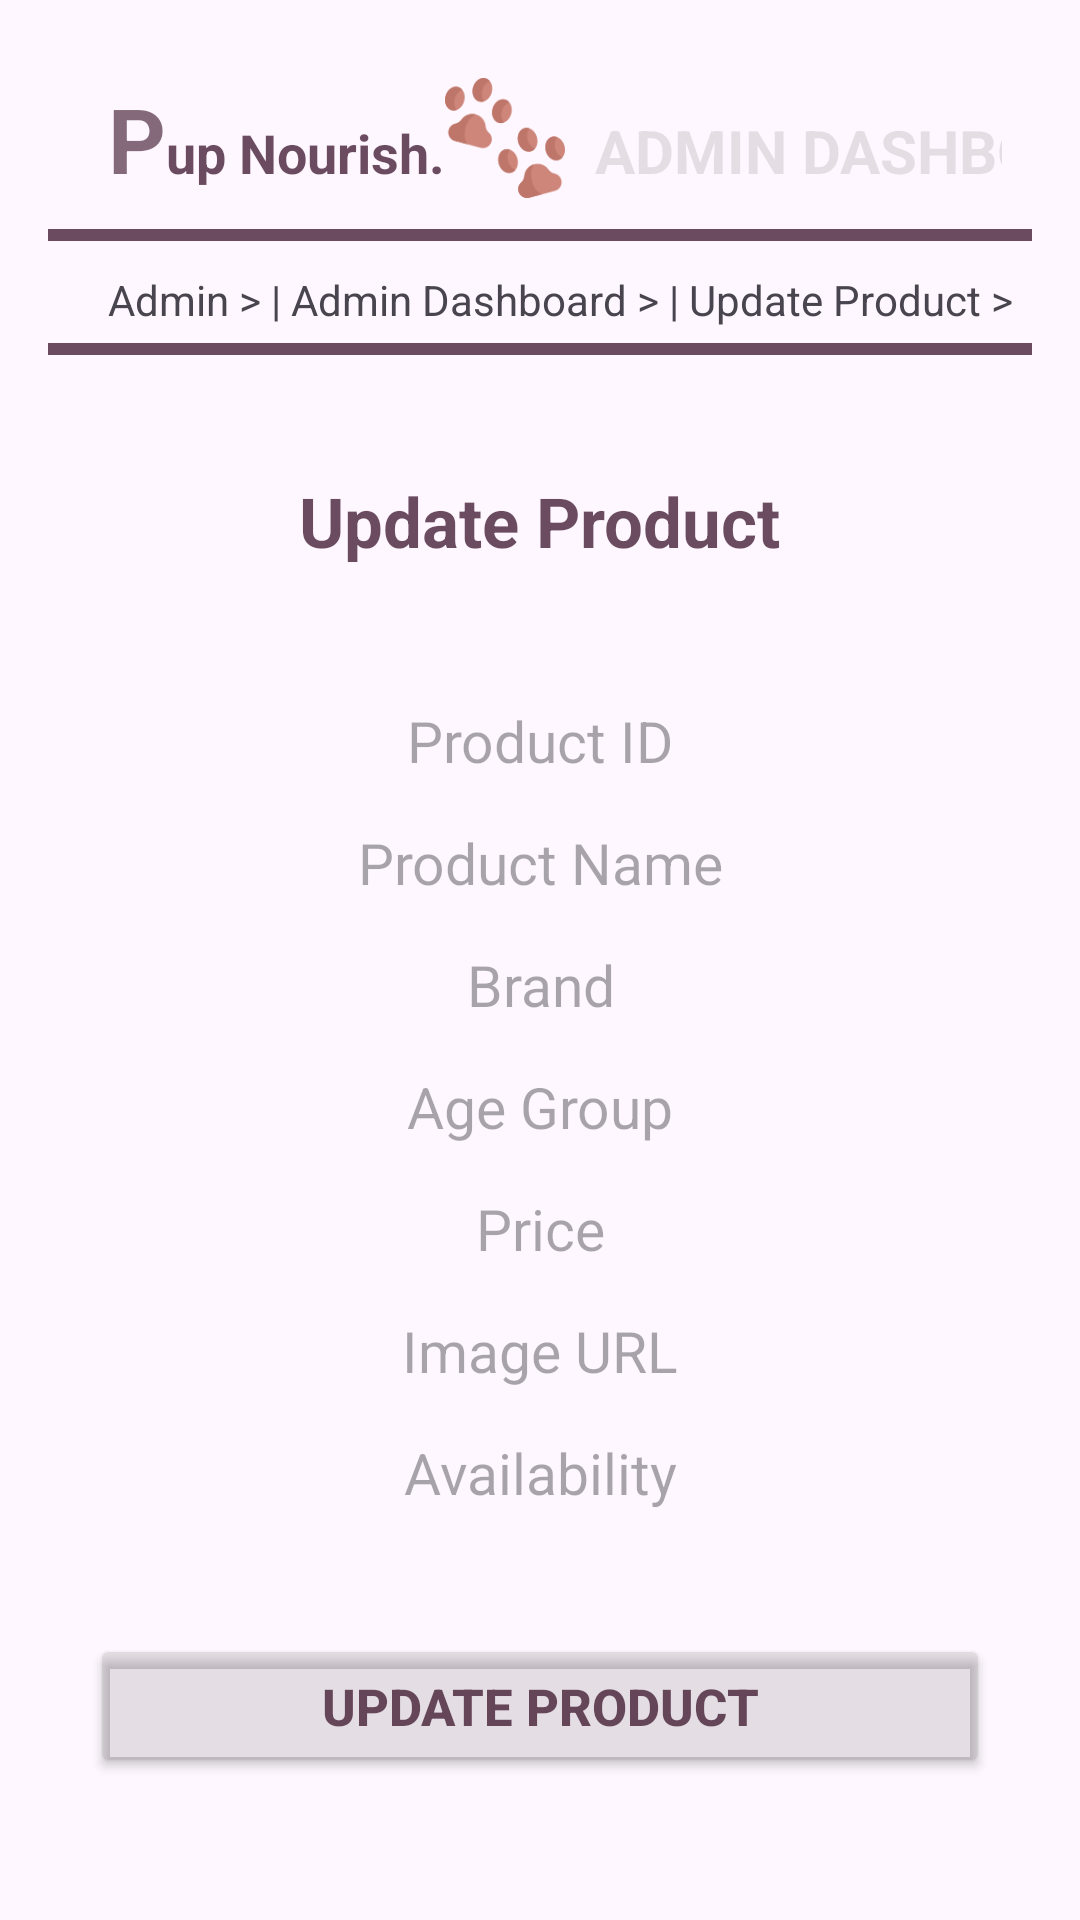

Where to tap for icons on this 1080w x 1920h app screen, as [x,y]:
paw: [505,138]
